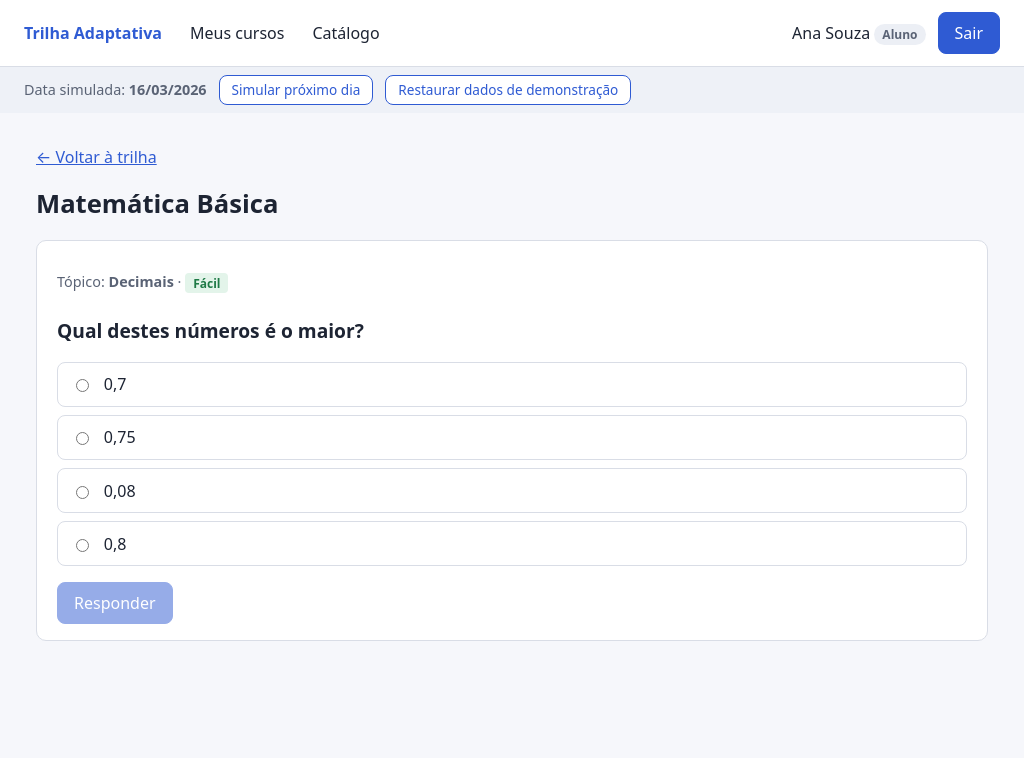
Test: trilha e sessão adaptativa › responder → feedback imediato com resultado, explicação e variação de domínio
The image size is (1024, 758).
expect the heading "Qual destes números é o maior?" is shown: met, box top-left (57, 317), bottom-right (364, 344)
Click the radio button labelled "0,8": (82, 545) top-left (76, 539), bottom-right (89, 552)
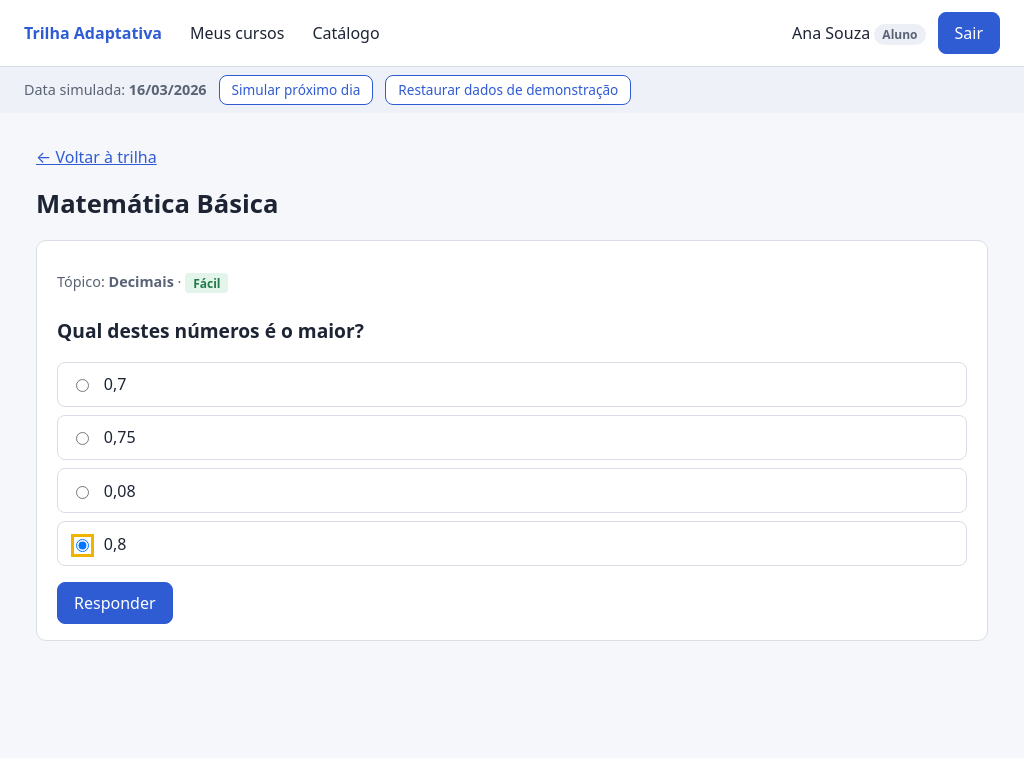
Click the button "Responder": (115, 603) top-left (57, 582), bottom-right (172, 624)
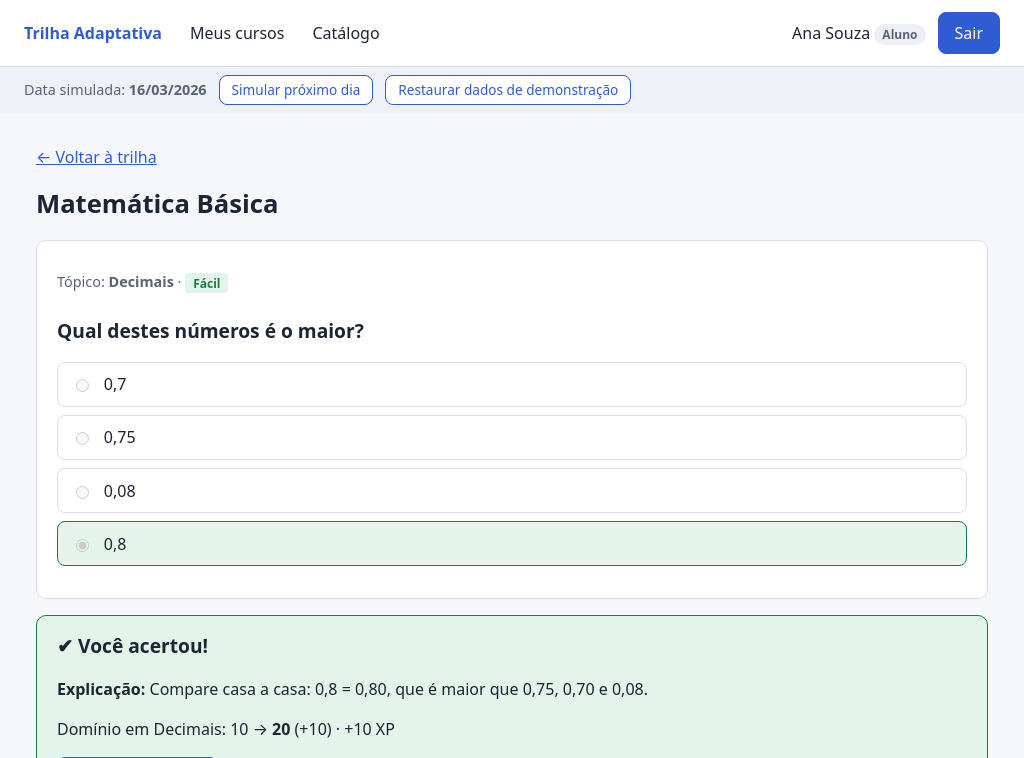
expect the heading "✔ Você acertou!" is shown: met, box top-left (57, 632), bottom-right (208, 659)
expect the text "Compare casa a casa: 0,8 = 0,80, que é maior que 0,75, 0,70 e 0,08." is shown: met, box top-left (150, 678), bottom-right (648, 700)
expect the text "Domínio em Decimais: 10 → 20 (+10) · +10 XP" is shown: met, box top-left (57, 718), bottom-right (395, 740)
